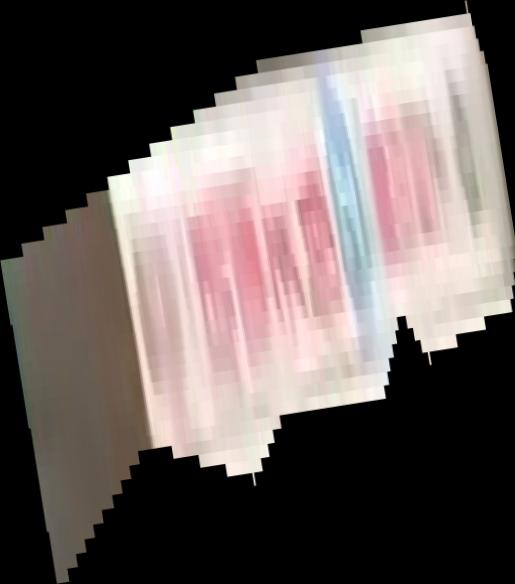flat: (1, 1, 515, 584)
